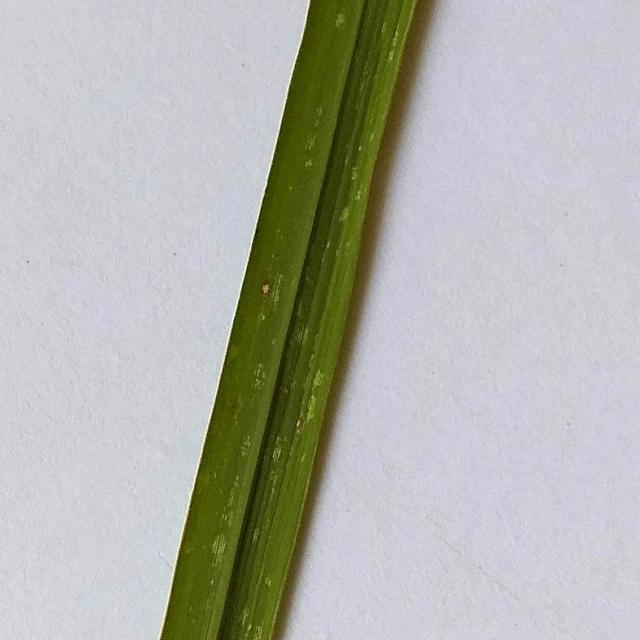Blast: (256, 276, 276, 302)
